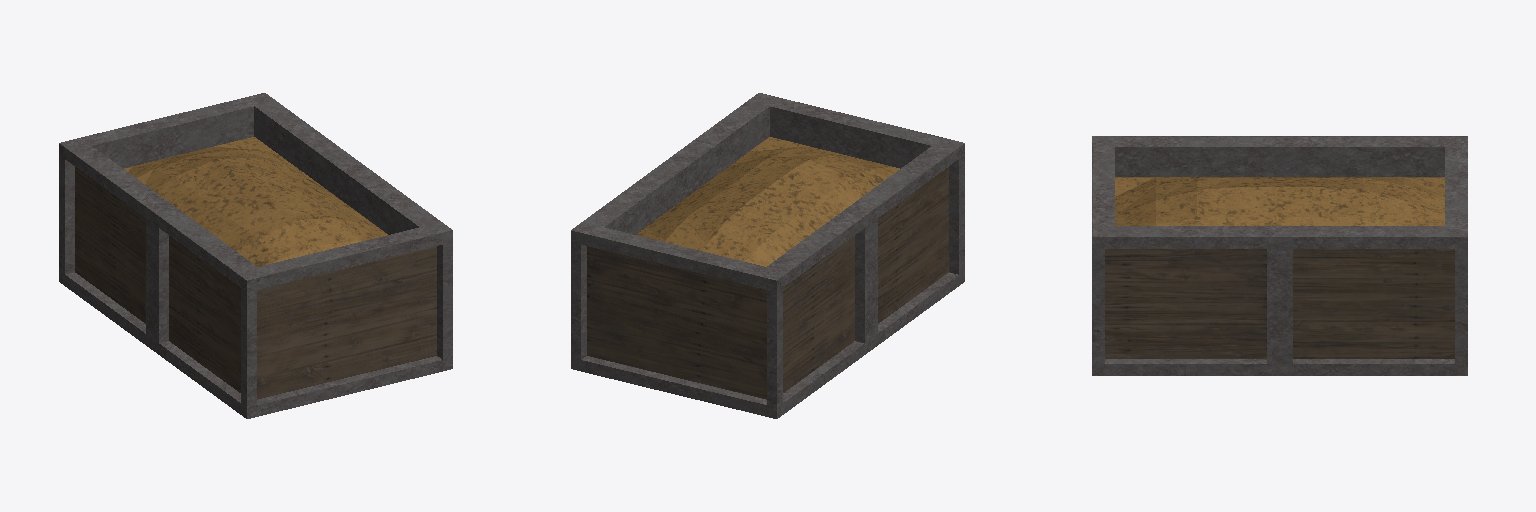
The picture shows the model from 3 angles: view 1: azimuth 30°, elevation 25°; view 2: azimuth 150°, elevation 25°; view 3: azimuth 270°, elevation 25°; orthographic projection.
Visible parts, largest first — view 1: Cube; view 2: Cube; view 3: Cube.
Boxes of the visible parts, x1,y1,x2,y2 form: Cube: [59, 93, 452, 418]; Cube: [571, 93, 964, 418]; Cube: [1092, 136, 1467, 375].
Bounding box in the file's own units: 3.11 × 2 × 4.92.
Materials: 1 (1 with a texture image).